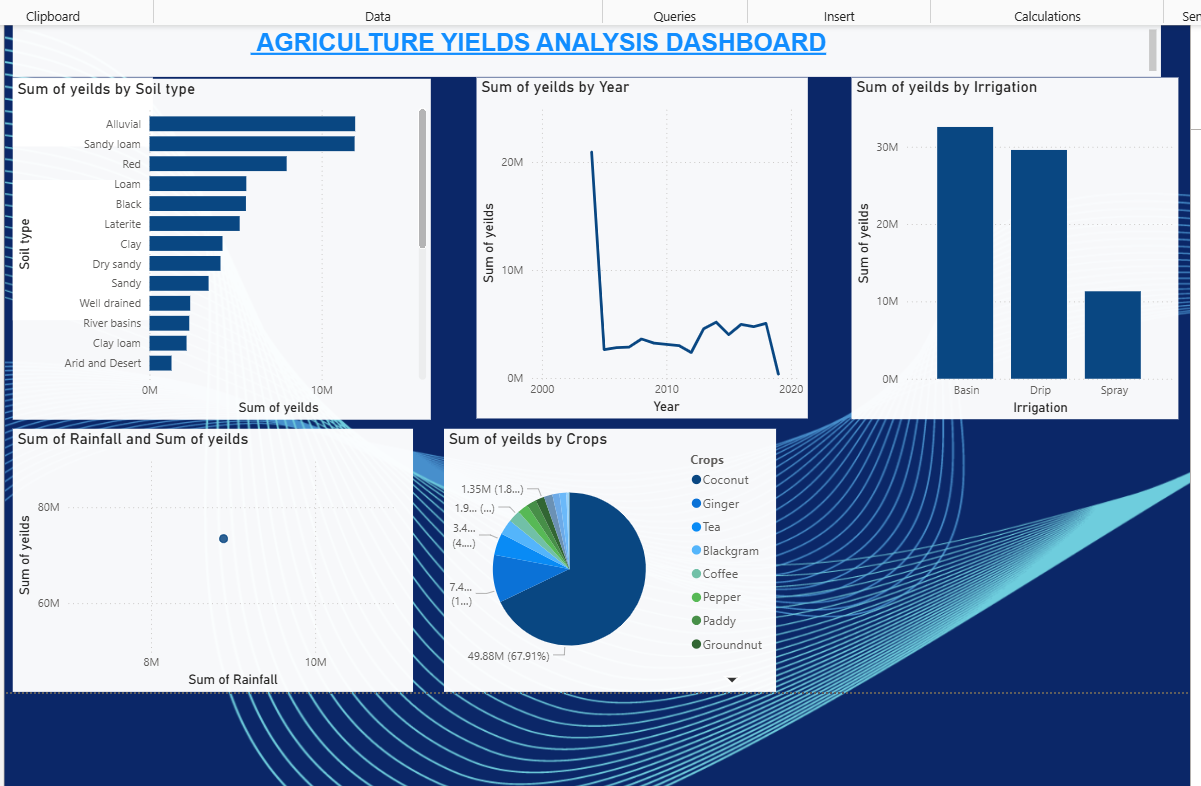

The page's visual inventory and layout, read from the dashboard file:
{"tool":"powerbi","page":{"name":"Dashboard","canvas":[1280,720],"ordinal":0},"visuals":[{"type":"textbox","box":[9.6,0,1239.1,56.3],"z":0},{"type":"textbox","box":[9.6,167.4,149.6,150.9],"z":1000},{"type":"textbox","box":[9.6,56.3,150.9,74.1],"z":2000},{"type":"lineChart","fields":{"Category":["data_season_enhanced.Year"],"Y":["Sum(data_season_enhanced.yeilds)"]},"box":[474.8,57.6,358.1,369.1],"z":3000},{"type":"clusteredColumnChart","fields":{"Category":["data_season_enhanced.Irrigation"],"Y":["Sum(data_season_enhanced.yeilds)"]},"box":[915.3,56.3,352.7,369.1],"z":4000},{"type":"clusteredBarChart","fields":{"Category":["data_season_enhanced.Soil type"],"Y":["Sum(data_season_enhanced.yeilds)"]},"box":[9.6,57.6,451.5,367.8],"z":5000},{"type":"scatterChart","fields":{"Y":["Sum(data_season_enhanced.yeilds)"],"X":["Sum(data_season_enhanced.Rainfall)"]},"box":[9.6,436.4,432.2,284],"z":6000},{"type":"pieChart","fields":{"Category":["data_season_enhanced.Crops"],"Y":["Sum(data_season_enhanced.yeilds)"]},"box":[475,436,358,284],"z":7000}]}

Visuals, with their boxes in screenshot pixels (x1, y1, x2, y2):
textbox: (9, 22, 1155, 74)
textbox: (9, 177, 147, 316)
textbox: (9, 74, 149, 143)
lineChart - data_season_enhanced.Year x Sum(data_season_enhanced.yeilds): (439, 75, 771, 417)
clusteredColumnChart - data_season_enhanced.Irrigation x Sum(data_season_enhanced.yeilds): (847, 74, 1173, 416)
clusteredBarChart - data_season_enhanced.Soil type x Sum(data_season_enhanced.yeilds): (9, 75, 427, 416)
scatterChart - Sum(data_season_enhanced.yeilds) x Sum(data_season_enhanced.Rainfall): (9, 426, 409, 688)
pieChart - data_season_enhanced.Crops x Sum(data_season_enhanced.yeilds): (440, 425, 771, 688)
